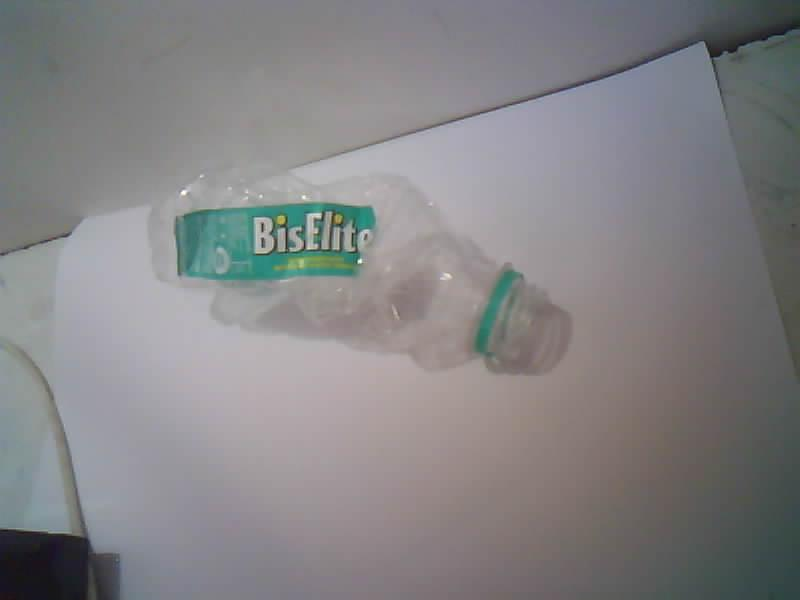non-biodegradable: (149, 170, 569, 373)
